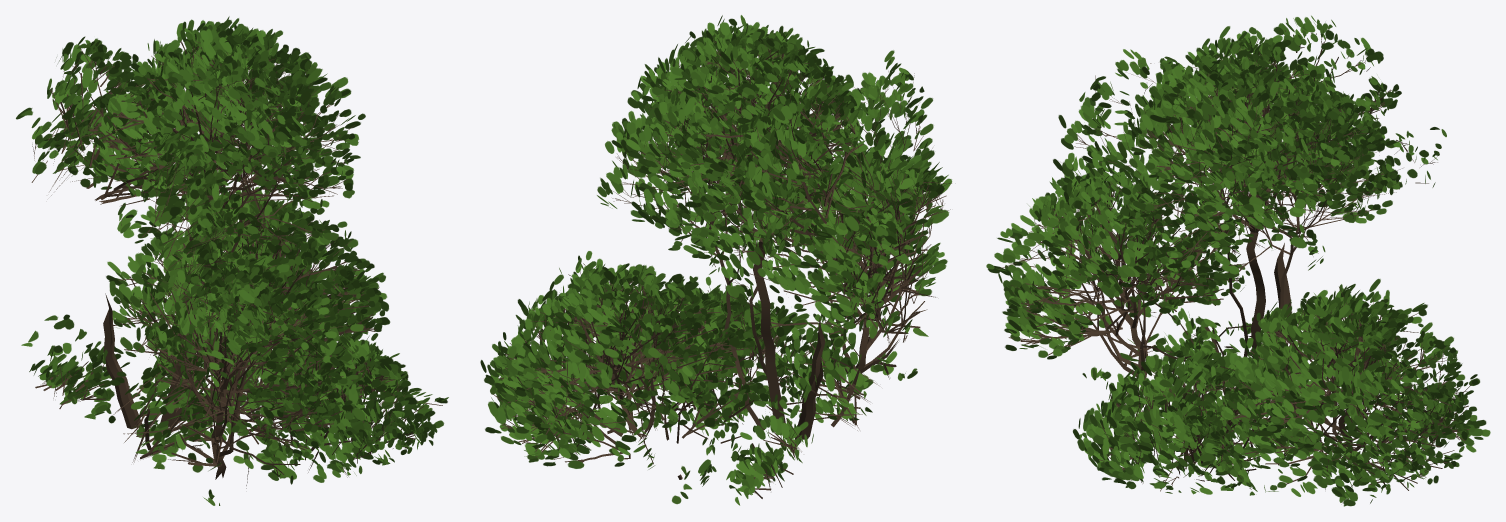
The picture shows the model from 3 angles, left to right: view 1: azimuth 30°, elevation 25°; view 2: azimuth 150°, elevation 25°; view 3: azimuth 270°, elevation 25°; orthographic projection. The views are drawn at different scales.
Parts seen in each view (by area): view 1: oak 01.001_trunk_Mat.001_0.345; view 2: oak 01.001_trunk_Mat.001_0.345; view 3: oak 01.001_trunk_Mat.001_0.345.
Boxes of the visible parts, left/top/right/bottom form: oak 01.001_trunk_Mat.001_0.345: left=16, top=16, right=448, bottom=505; oak 01.001_trunk_Mat.001_0.345: left=480, top=15, right=952, bottom=505; oak 01.001_trunk_Mat.001_0.345: left=986, top=15, right=1490, bottom=506.
Bounding box in the file's own units: 2.91 × 3.48 × 4.03.
2 materials, 1 textured.
